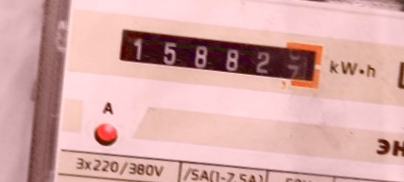1: (131, 35, 146, 62)
2: (254, 49, 273, 75)
5: (162, 39, 179, 67)
7: (285, 61, 302, 80)
8: (224, 46, 242, 73), (193, 43, 211, 69)
screen: (108, 16, 333, 98)
